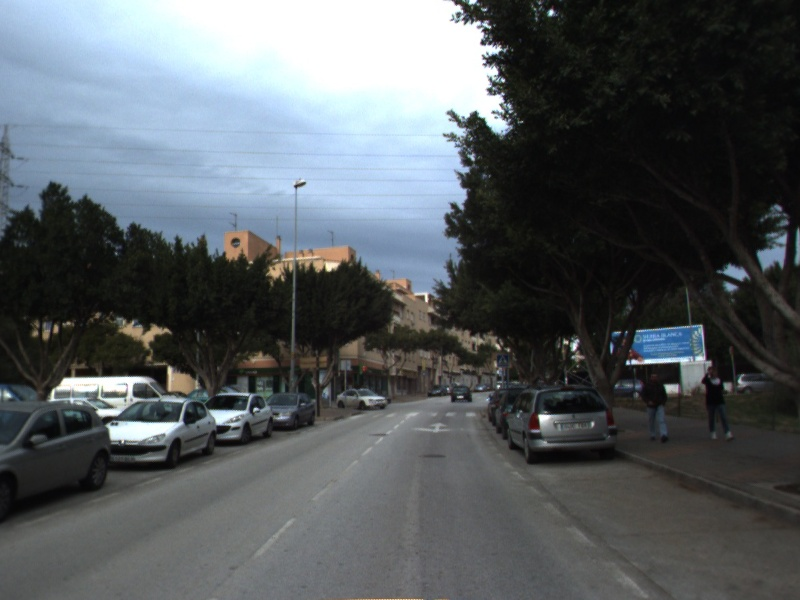STRAIGHT_LEFT_RIGHT: (409, 419, 467, 435)
